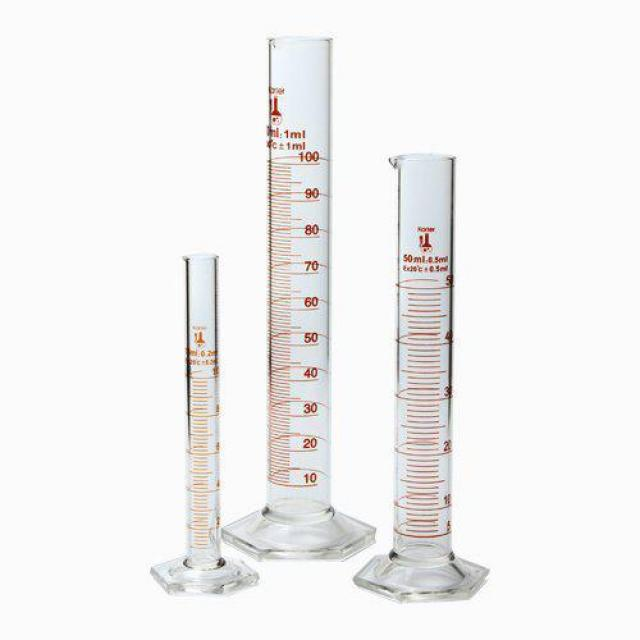non-organic waste: (348, 138, 501, 608)
